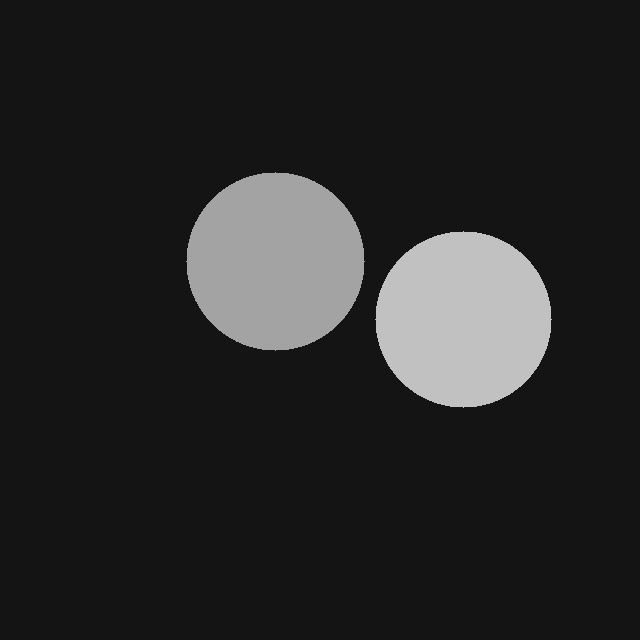circle: (186, 172, 364, 350), (375, 231, 551, 407)
